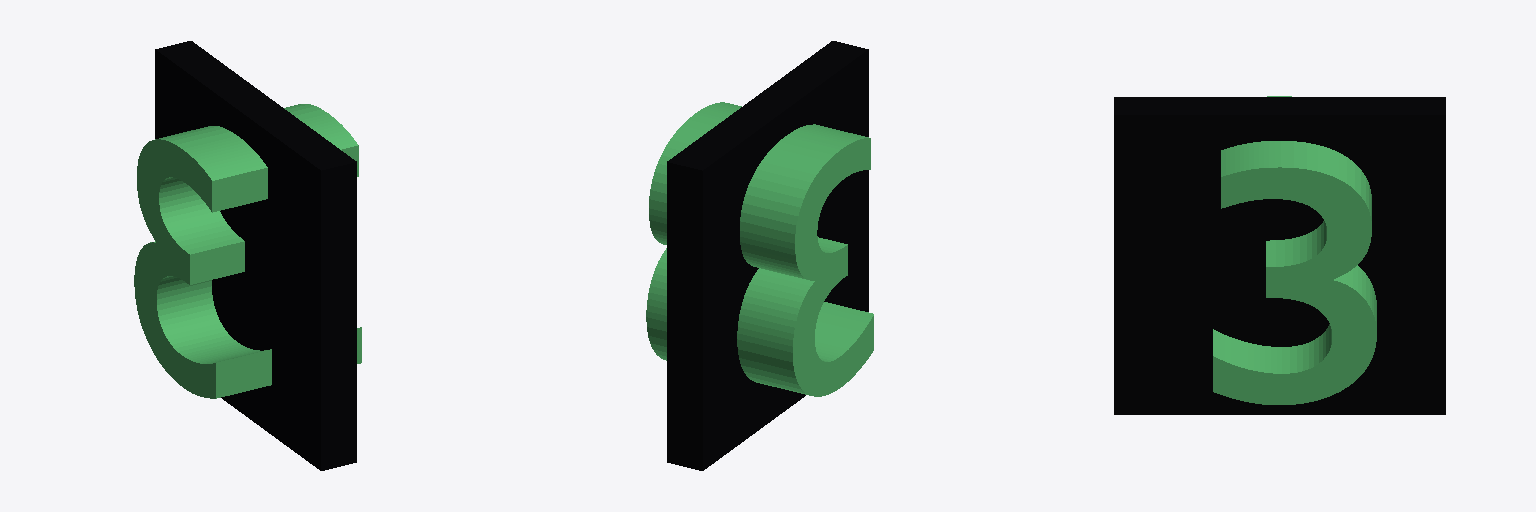
3 renders of one model, left to right at view 1: azimuth 30°, elevation 25°; view 2: azimuth 150°, elevation 25°; view 3: azimuth 270°, elevation 25°, orthographic.
Visible parts, largest first — view 1: window, Text.001_Text; view 2: window, Text.001_Text; view 3: window, Text.001_Text.
Boxes of the visible parts, x1,y1,x2,y2 form: window: [155, 41, 356, 470]; Text.001_Text: [134, 104, 361, 398]; window: [667, 41, 868, 470]; Text.001_Text: [646, 102, 873, 396]; window: [1114, 97, 1445, 414]; Text.001_Text: [1213, 96, 1376, 404].
Size of the model in its own units: 1.02 by 2 by 2.